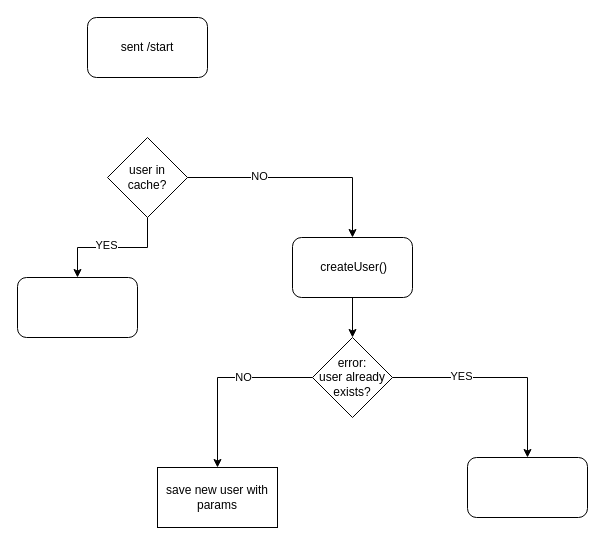
Some shapes in this 605 by 545 pixel diagram are drawn without their labels. Each missing label, with the centre of its shape:
Enter userID to connect to the user.: point 527,487
everything good, use the user: point 77,307
